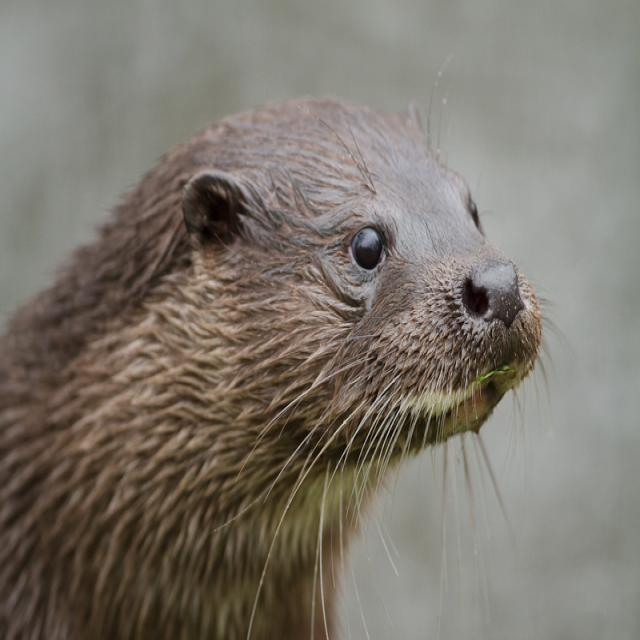otter: (1, 104, 541, 640)
